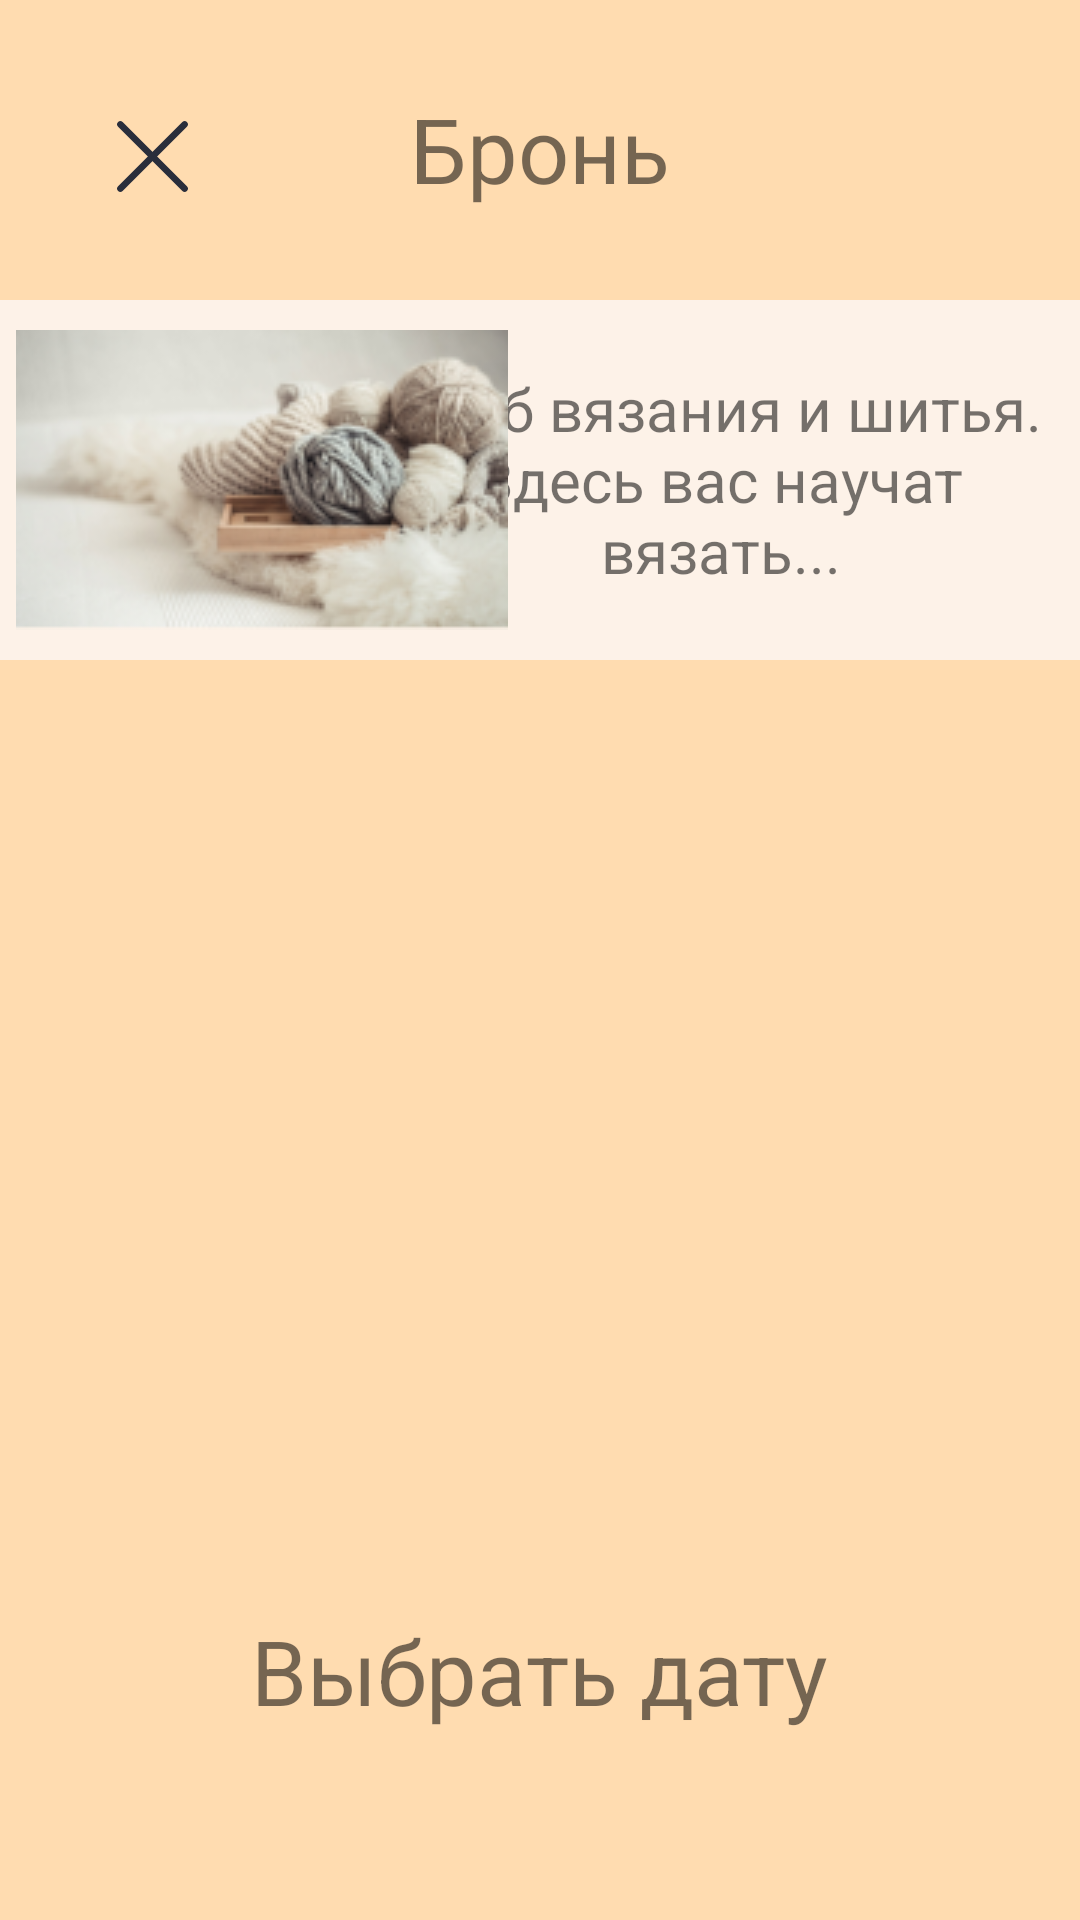

Icon click points for this 1080*1920 phone screenshot, format point (x, y):
cross: point (152, 156)
